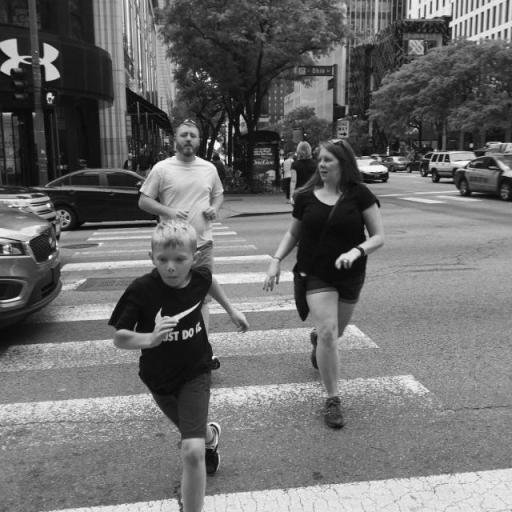Under Armour: (0, 37, 62, 84)
